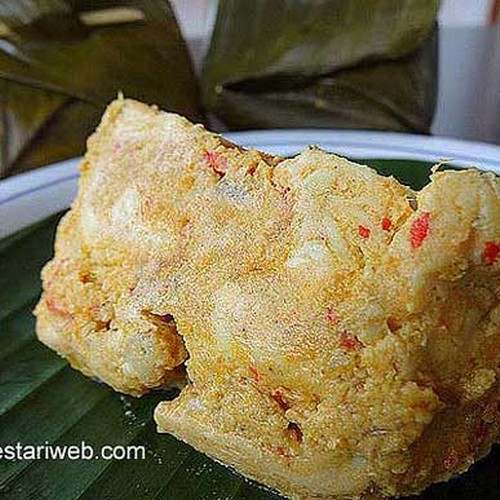tum ayam: (60, 90, 481, 477)
